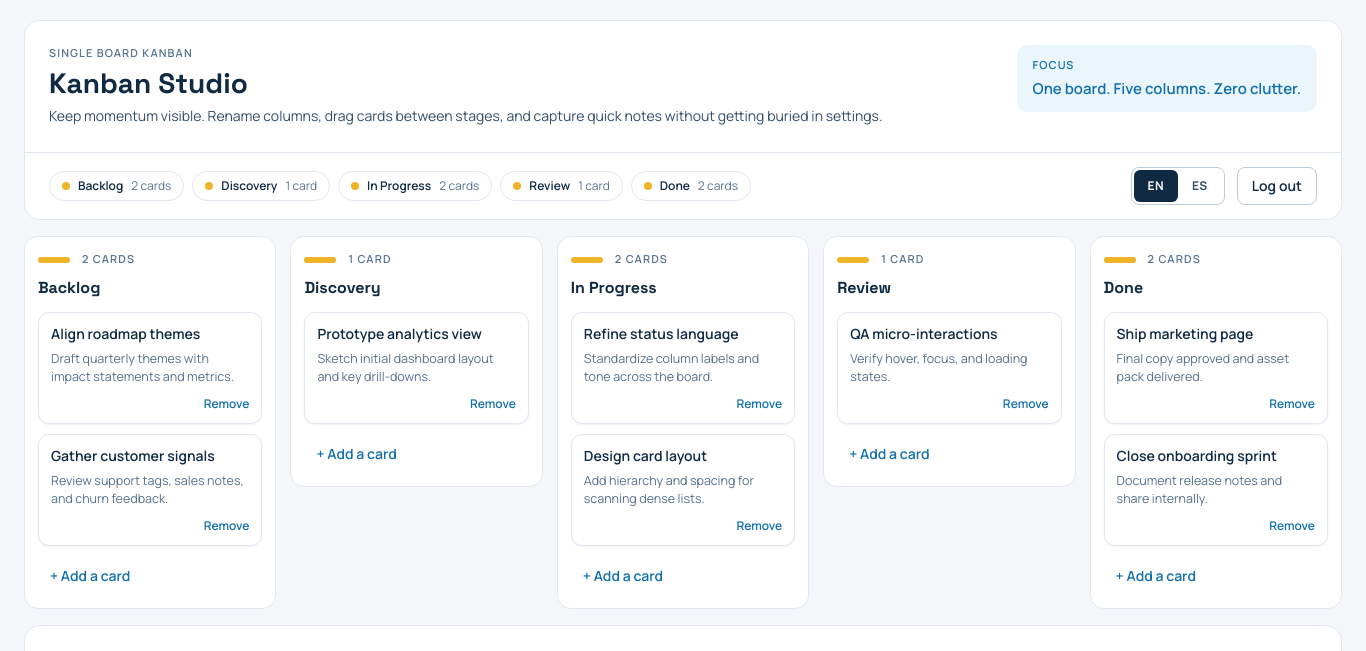
KanbanBoard › keeps the original title when the edit is left empty
Double-click the heading "Align roadmap themes" at (126, 333), box [51,324,200,343]
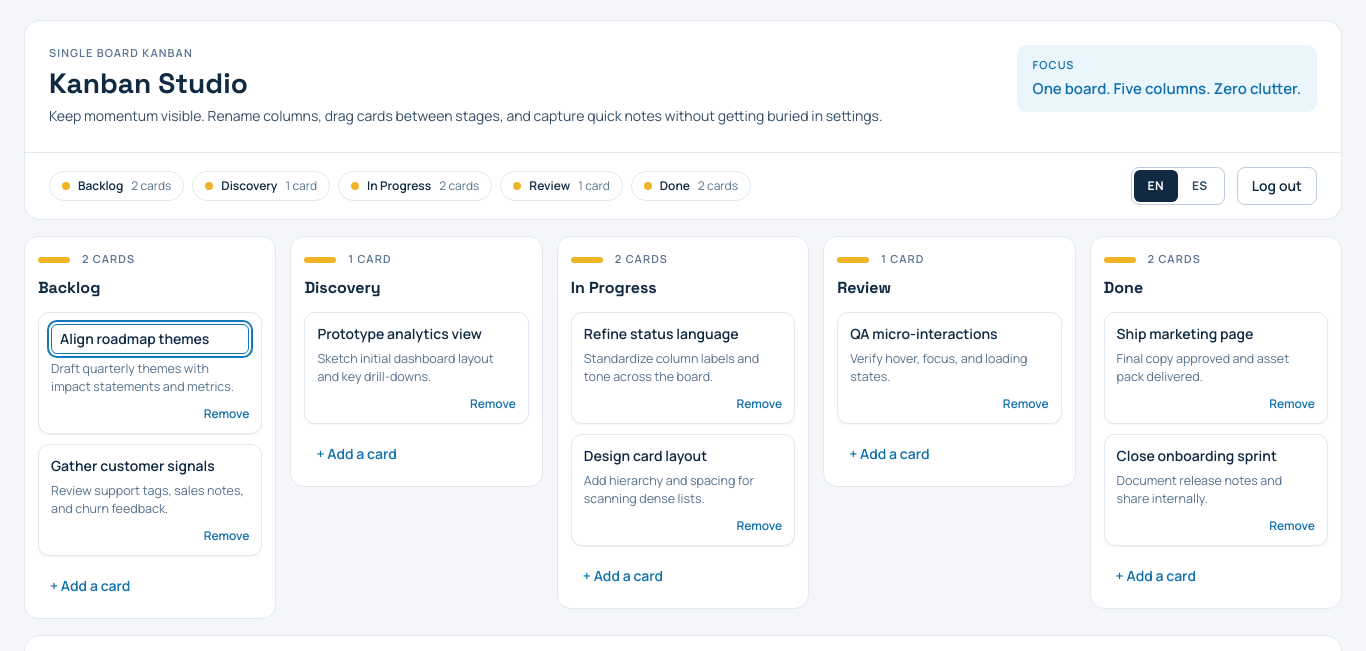
Clear the field named "Edit card title" at (150, 339), box [51,324,249,354]
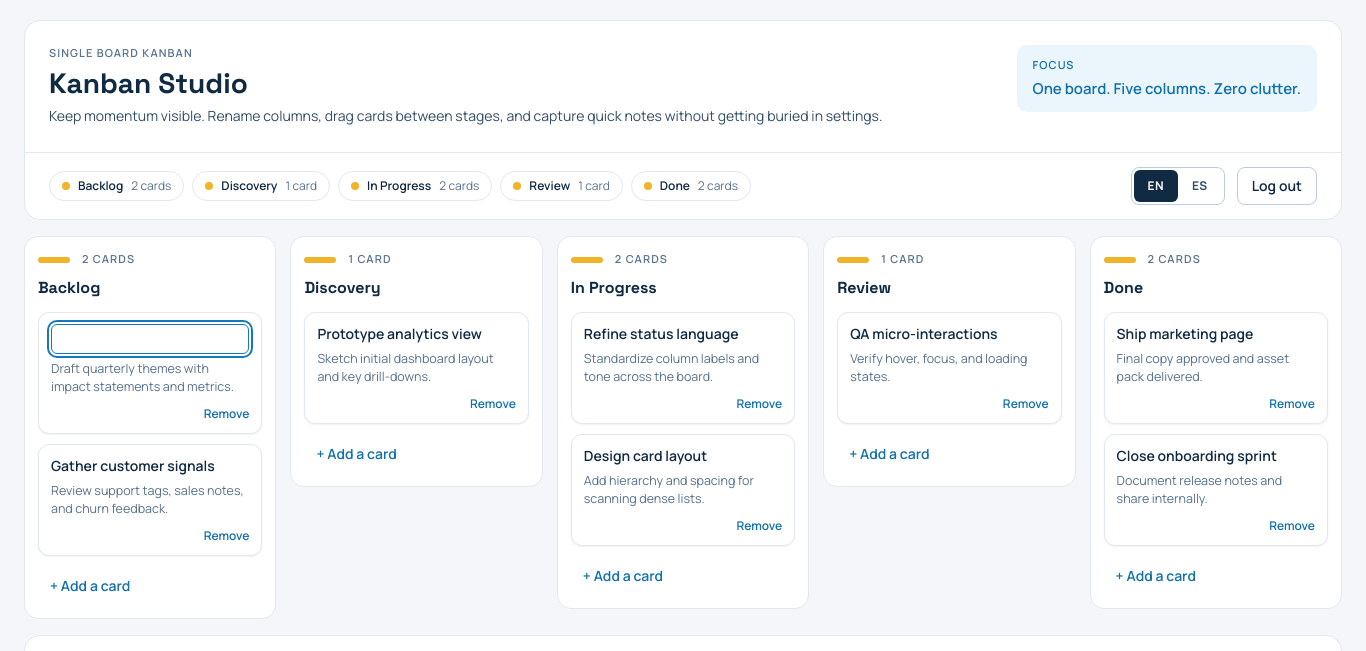
Press Tab
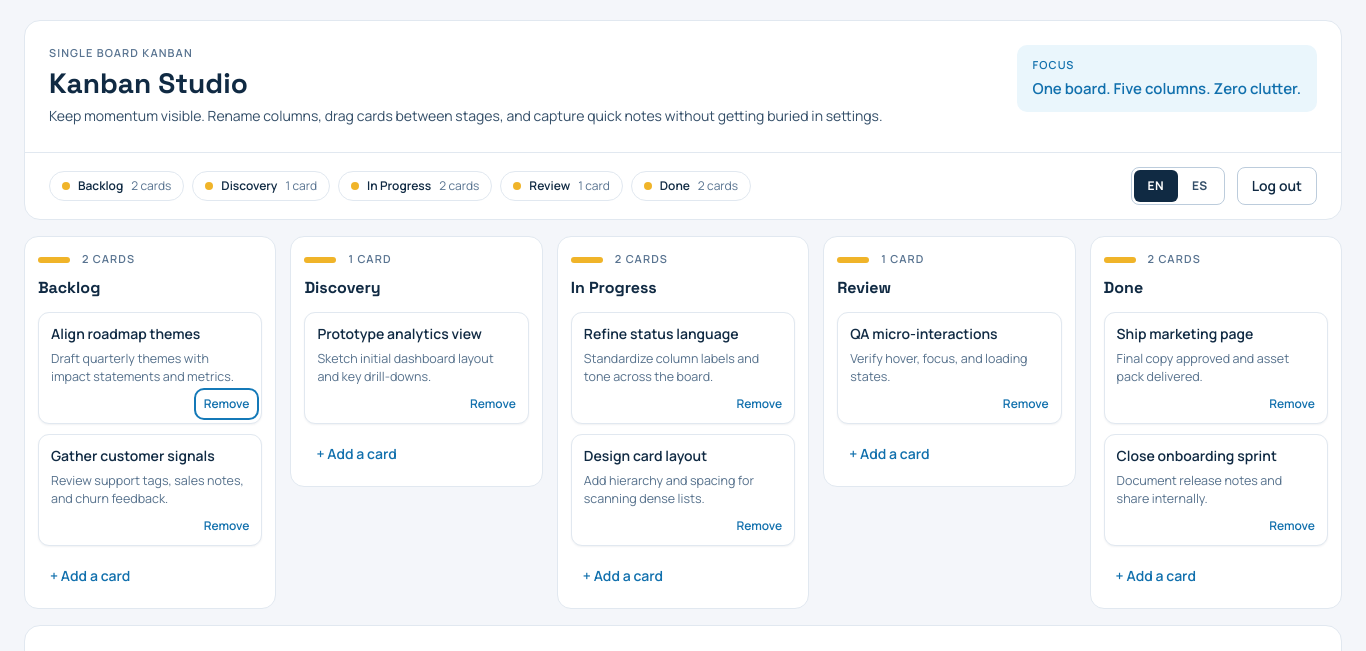
expect the heading "Align roadmap themes" is shown: met, box [51,324,200,343]
